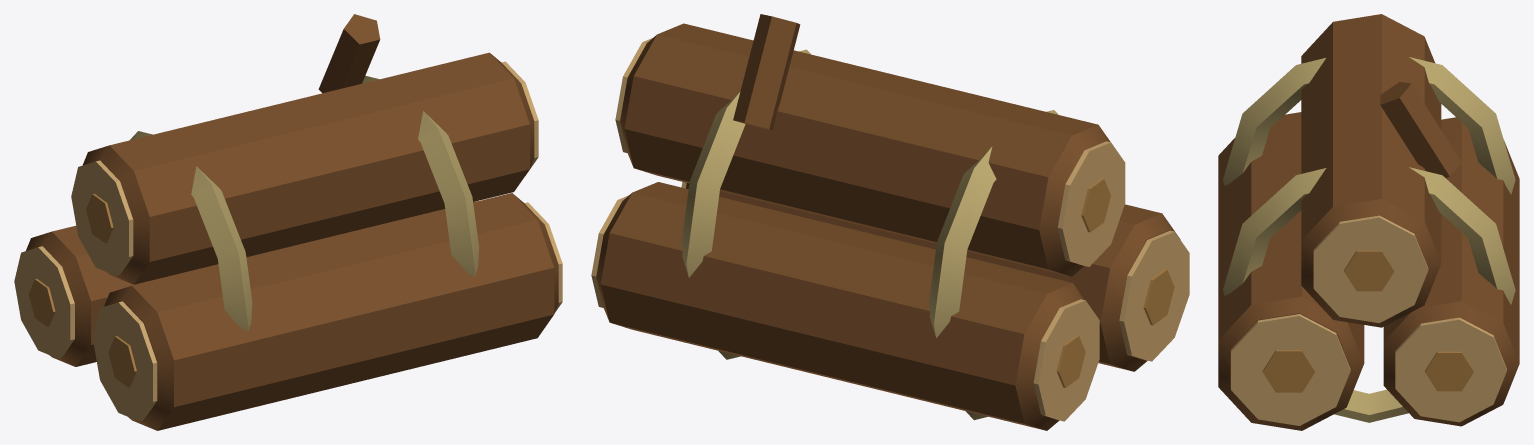
Rendered from cg_wood.glb.
The picture shows the model from 3 angles, left to right: view 1: azimuth 30°, elevation 25°; view 2: azimuth 150°, elevation 25°; view 3: azimuth 270°, elevation 25°; orthographic projection. The views are drawn at different scales.
Visible parts, largest first — view 1: body; view 2: body; view 3: body.
Boxes of the visible parts, x1,y1,x2,y2 form: body: (14, 14, 562, 430); body: (591, 14, 1189, 430); body: (1218, 14, 1519, 430).
Size of the model in its own units: 0.495 by 0.3593 by 0.3005.
